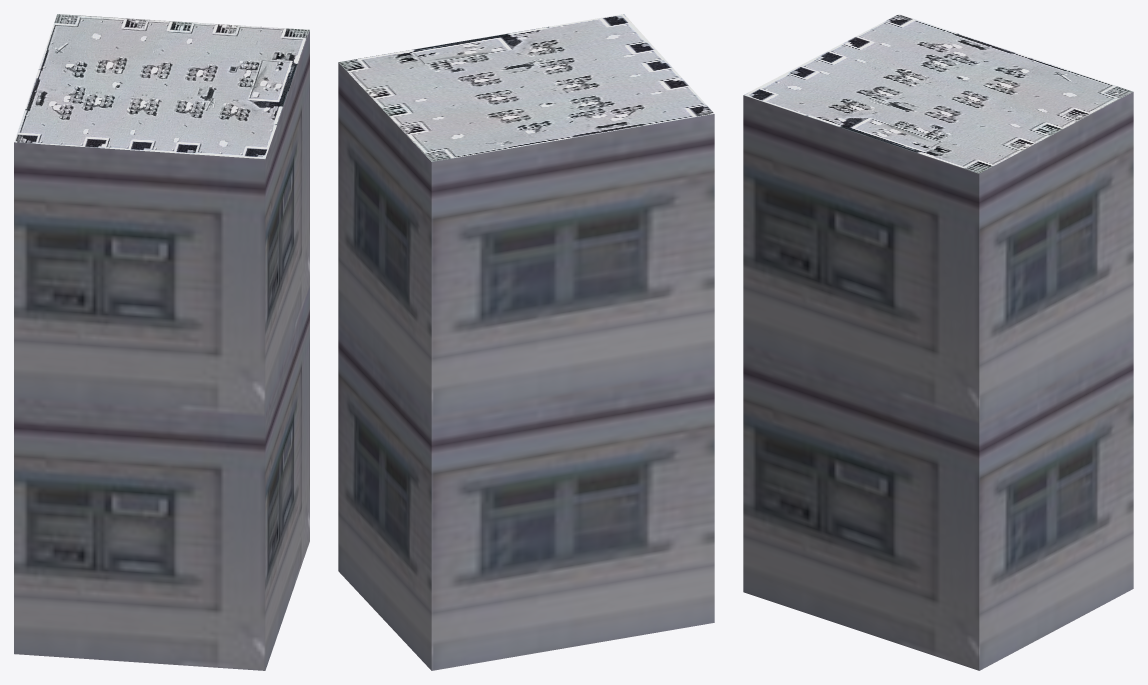
The model's file is ResTex__2230.fbx.
3 views of the same model, side by side, from view 1: azimuth 30°, elevation 25°; view 2: azimuth 150°, elevation 25°; view 3: azimuth 270°, elevation 25° (orthographic). The views are drawn at different scales.
Visible parts, largest first — view 1: CityEngineMaterial_1_m, CityEngineMaterial_m; view 2: CityEngineMaterial_1_m, CityEngineMaterial_m; view 3: CityEngineMaterial_1_m, CityEngineMaterial_m.
Boxes of the visible parts, x1,y1,x2,y2 form: CityEngineMaterial_1_m: (14, 30, 309, 670); CityEngineMaterial_m: (14, 14, 309, 159); CityEngineMaterial_1_m: (338, 62, 714, 670); CityEngineMaterial_m: (338, 14, 714, 161); CityEngineMaterial_1_m: (743, 92, 1133, 670); CityEngineMaterial_m: (743, 14, 1132, 173).
Size of the model in its own units: 4.14 by 6 by 4.27.
2 materials, 2 textured.
